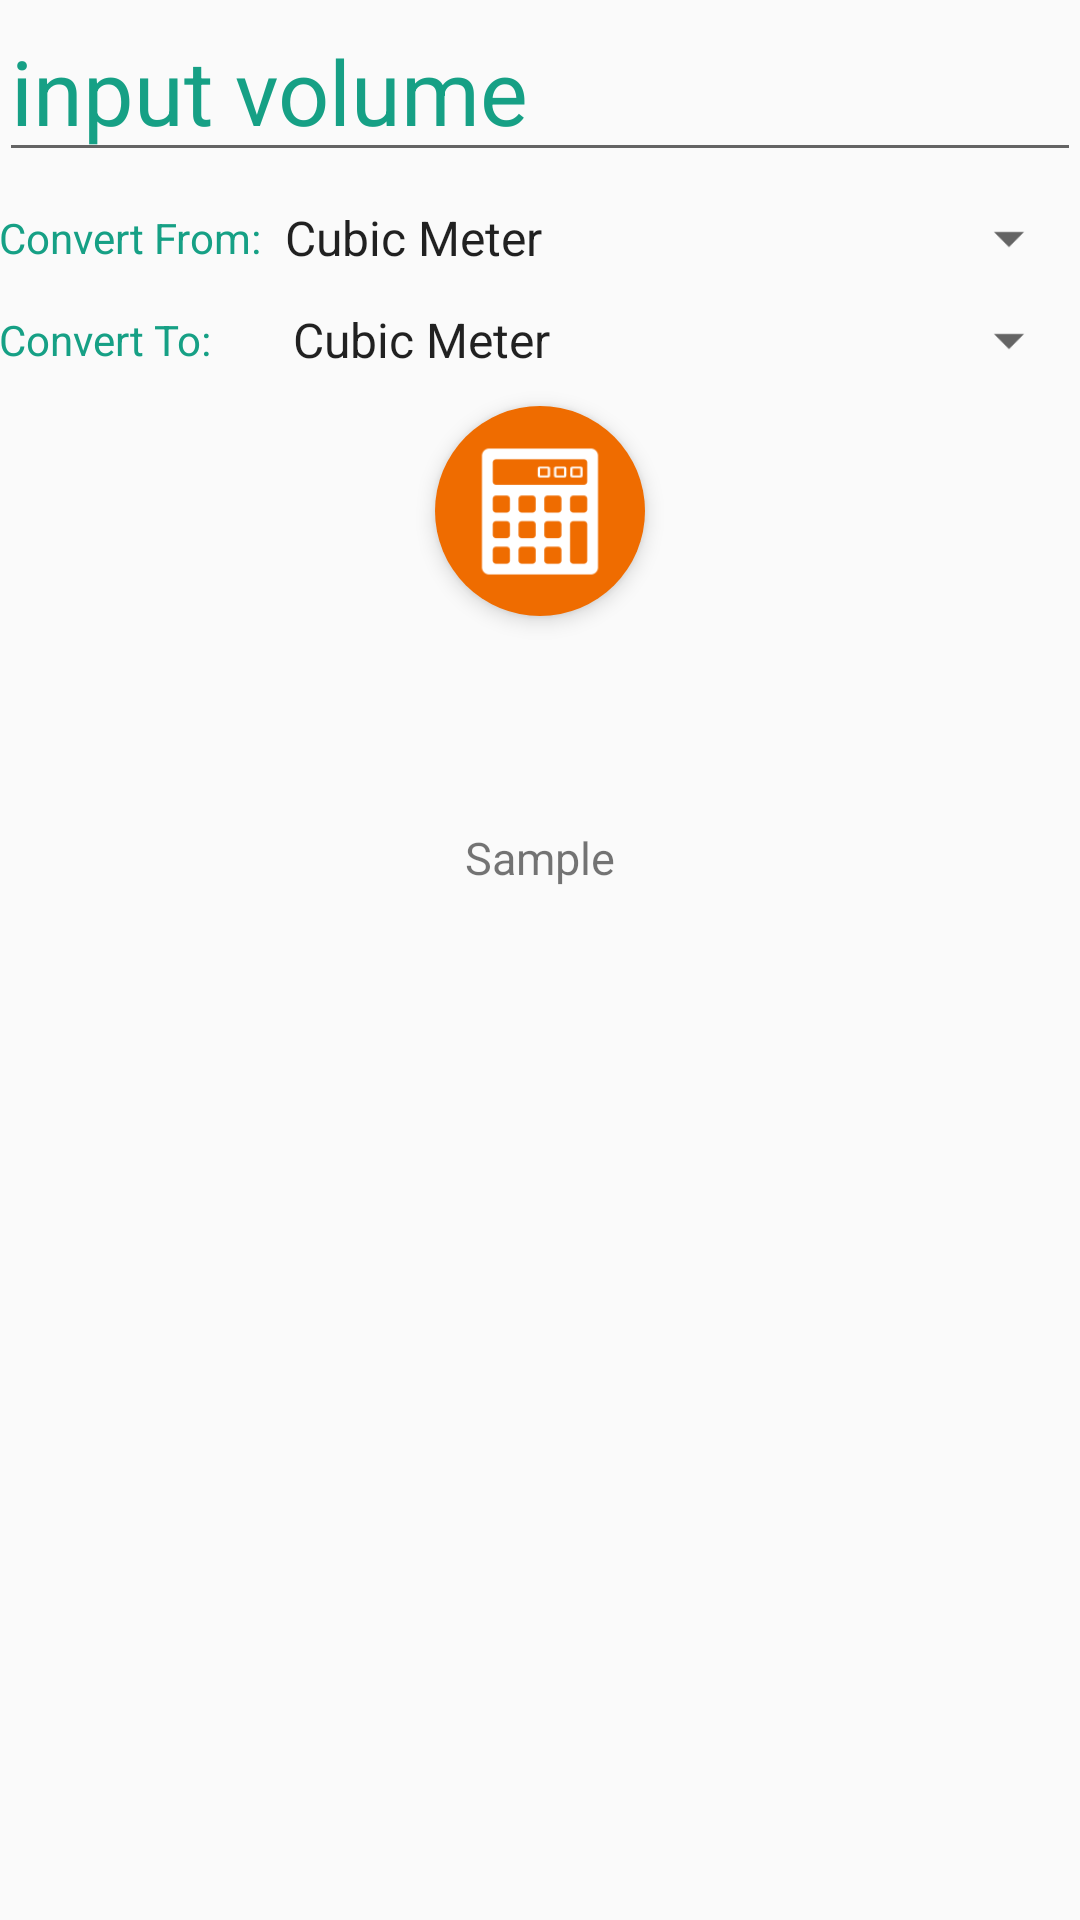

Named icons in this screenshot (1080px x 1920px) and their bounding boxes, (x1, y1, x2, y2):
calculator: (435, 406, 645, 616)
